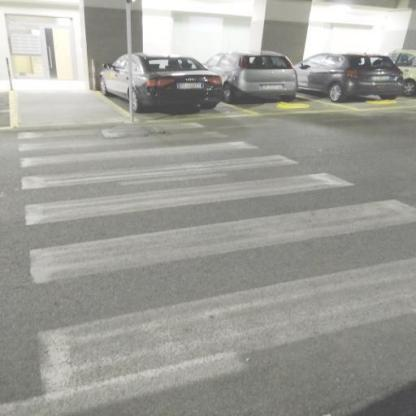crosswalk: (9, 152, 372, 230)
